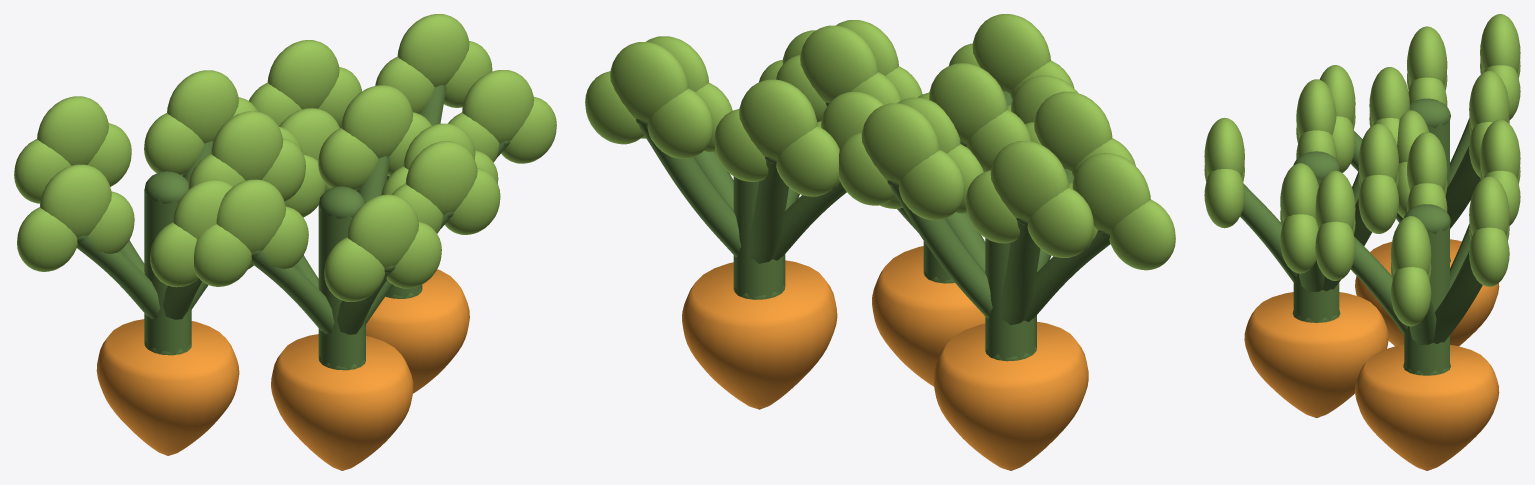
The model's file is crop_2_stage_3.fbx.
The picture shows the model from 3 angles, left to right: view 1: azimuth 30°, elevation 25°; view 2: azimuth 150°, elevation 25°; view 3: azimuth 270°, elevation 25°; orthographic projection. The views are drawn at different scales.
Parts seen in each view (by area): view 1: crop_2_stage_3; view 2: crop_2_stage_3; view 3: crop_2_stage_3.
Boxes of the visible parts, x1,y1,x2,y2 form: crop_2_stage_3: [14, 14, 556, 470]; crop_2_stage_3: [585, 14, 1175, 470]; crop_2_stage_3: [1204, 14, 1520, 470].
Bounding box in the file's own units: 0.724 × 0.45 × 0.4.
Materials: 1 (1 with a texture image).
